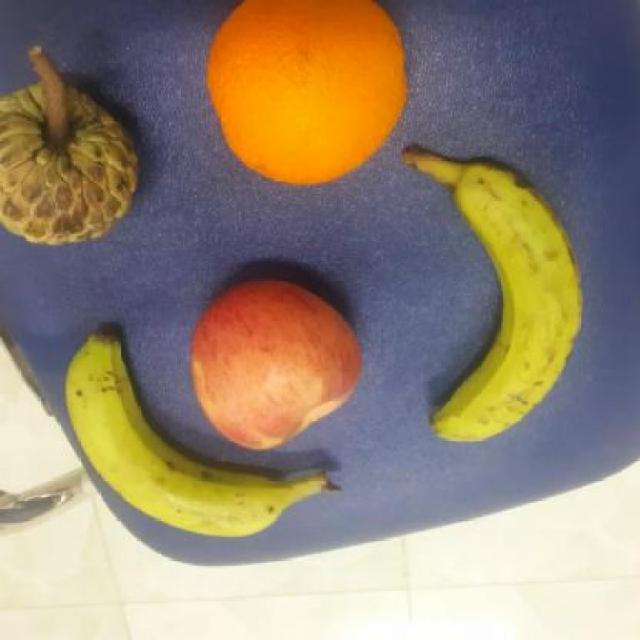apple: (186, 271, 369, 451)
banana: (414, 157, 586, 457), (62, 329, 282, 543)
oren: (202, 1, 410, 187)
sugar apple: (0, 76, 142, 250)
